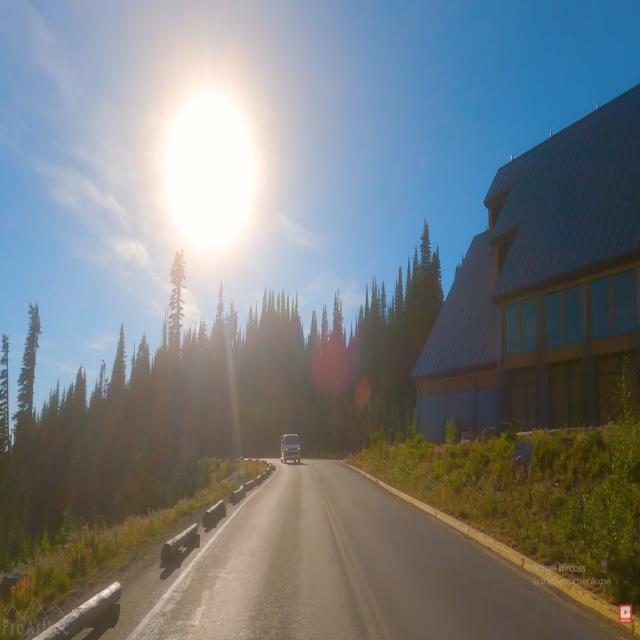sun: (139, 62, 284, 290)
